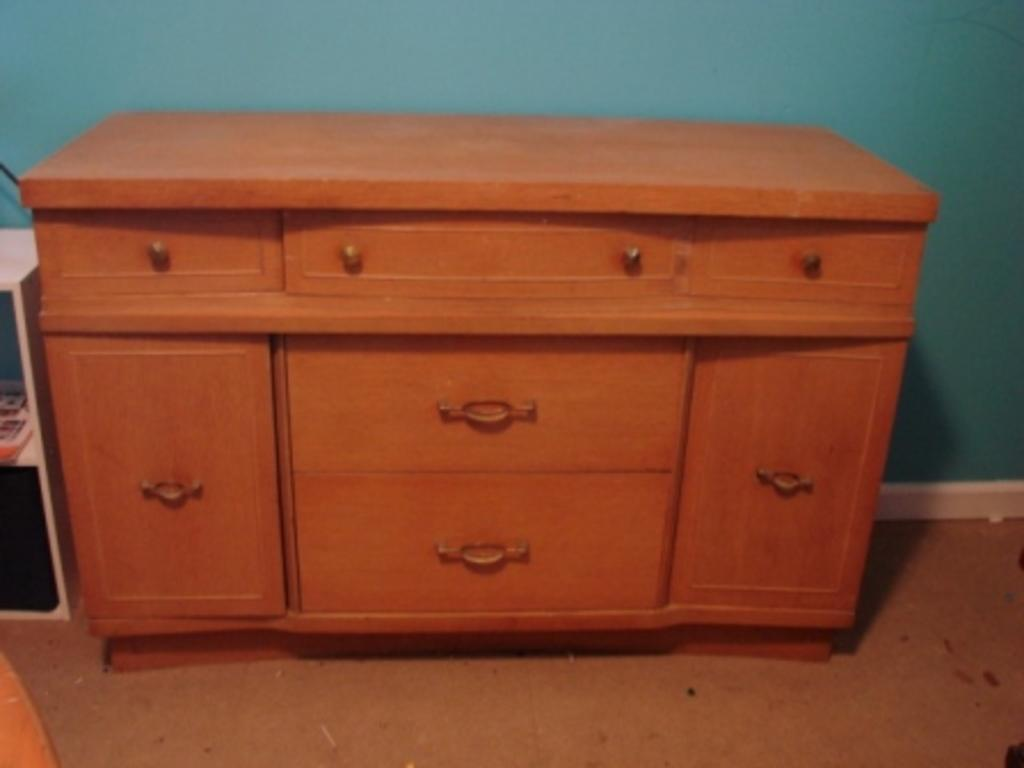cabinet_door: (49, 344, 292, 596), (286, 477, 676, 608), (285, 344, 684, 470), (686, 354, 868, 596), (286, 219, 686, 308), (42, 213, 276, 292), (696, 223, 916, 302)
handle: (445, 397, 548, 442), (434, 536, 538, 580), (142, 468, 204, 515), (759, 460, 819, 502), (142, 238, 182, 278), (791, 246, 829, 282), (331, 242, 367, 276), (617, 240, 649, 274)
